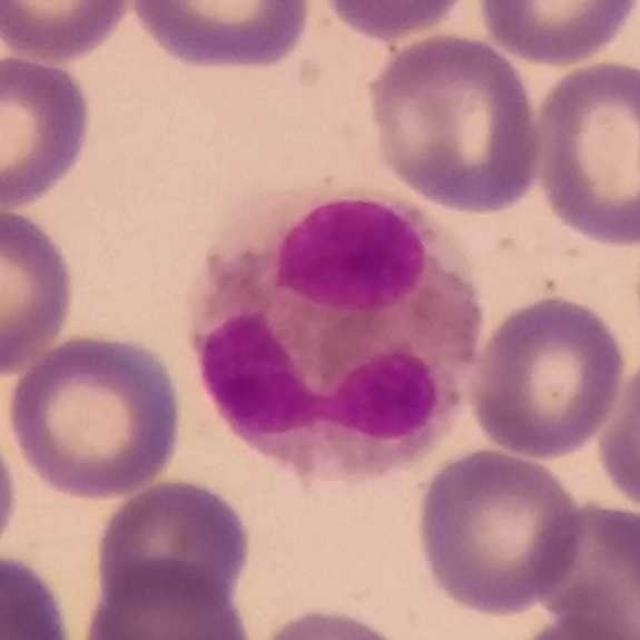Eosinophil: (179, 176, 478, 482)
RBC: (362, 28, 548, 217), (2, 327, 188, 503), (410, 443, 588, 619), (464, 290, 629, 462), (89, 474, 255, 616), (528, 55, 640, 250), (0, 50, 98, 212), (532, 497, 640, 640), (77, 555, 256, 640), (0, 199, 81, 380), (126, 0, 317, 75), (472, 0, 640, 68), (0, 0, 138, 65), (592, 342, 640, 518), (0, 546, 78, 640), (311, 0, 482, 42), (244, 602, 425, 640), (502, 611, 640, 640), (0, 399, 22, 575)
